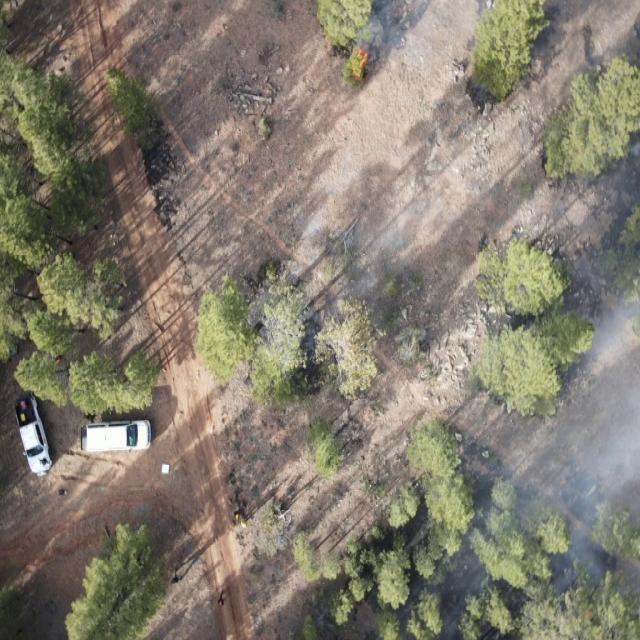fire: (346, 42, 374, 83)
smoke: (437, 422, 640, 638), (244, 209, 431, 393), (332, 0, 489, 89), (552, 295, 640, 423), (570, 243, 640, 293), (619, 134, 640, 212), (402, 566, 437, 608)
